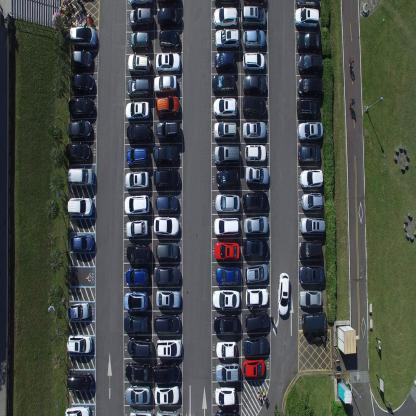car: (69, 25, 98, 49), (213, 143, 240, 167), (242, 238, 270, 261), (152, 167, 180, 190), (212, 289, 241, 311), (245, 310, 270, 335), (215, 362, 241, 386), (277, 270, 290, 318), (298, 264, 326, 286), (213, 216, 241, 238), (67, 98, 95, 120), (66, 371, 94, 393), (129, 6, 153, 31), (243, 216, 269, 239), (240, 6, 266, 29), (244, 164, 270, 187), (243, 190, 269, 213), (69, 73, 95, 96), (153, 214, 179, 237), (67, 195, 93, 218), (66, 333, 92, 356), (155, 289, 182, 311), (153, 364, 180, 386), (154, 385, 181, 407), (125, 363, 152, 385), (301, 312, 328, 334), (213, 315, 240, 337), (215, 265, 242, 287), (66, 120, 93, 142), (154, 315, 182, 336), (155, 339, 183, 360), (127, 52, 151, 76), (214, 240, 239, 263), (297, 52, 322, 75), (294, 6, 319, 29), (212, 119, 237, 142), (155, 51, 180, 74), (156, 119, 181, 142), (126, 122, 151, 145), (244, 336, 270, 358), (297, 120, 323, 142), (297, 75, 323, 97), (214, 28, 240, 50), (212, 97, 238, 119), (214, 192, 240, 214), (154, 96, 180, 118), (153, 144, 179, 166), (124, 193, 150, 215), (65, 141, 91, 163), (153, 265, 180, 286), (66, 167, 94, 187), (300, 169, 323, 193), (296, 97, 320, 120), (242, 96, 266, 119), (216, 167, 240, 190), (123, 292, 148, 314), (126, 244, 151, 266), (157, 7, 182, 29), (153, 74, 178, 96), (65, 300, 90, 322), (244, 264, 270, 285), (212, 7, 238, 28), (124, 170, 150, 191), (68, 233, 95, 253), (242, 51, 265, 74), (155, 240, 179, 262), (125, 267, 149, 289), (298, 239, 322, 261), (212, 74, 236, 96), (127, 77, 151, 99), (126, 146, 150, 168), (125, 217, 149, 239), (126, 387, 151, 408), (242, 75, 267, 96), (125, 100, 150, 121), (127, 340, 153, 360), (123, 316, 149, 336), (300, 216, 326, 236), (300, 192, 323, 214), (297, 30, 320, 52), (245, 142, 268, 164), (70, 49, 93, 71), (242, 29, 266, 50), (242, 120, 266, 141), (216, 339, 238, 361), (298, 144, 321, 165), (245, 288, 269, 308), (214, 52, 236, 73), (130, 30, 151, 52), (158, 29, 180, 50), (299, 290, 322, 310), (155, 194, 178, 214), (214, 386, 236, 406), (243, 360, 266, 379), (64, 404, 92, 415), (215, 408, 239, 416), (295, 0, 319, 8), (212, 0, 238, 7), (128, 408, 153, 415), (242, 0, 267, 7), (128, 0, 153, 7), (156, 408, 180, 415), (156, 0, 180, 7)
